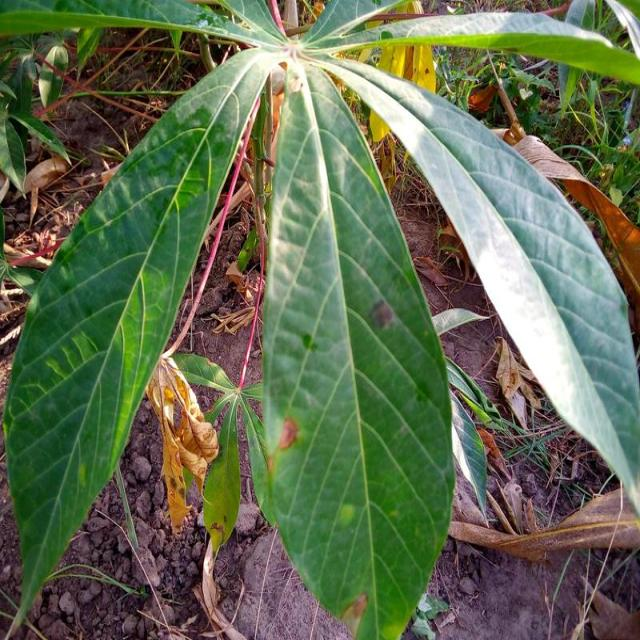cassava leaf: (1, 1, 638, 637), (2, 45, 276, 634), (256, 57, 456, 638)
